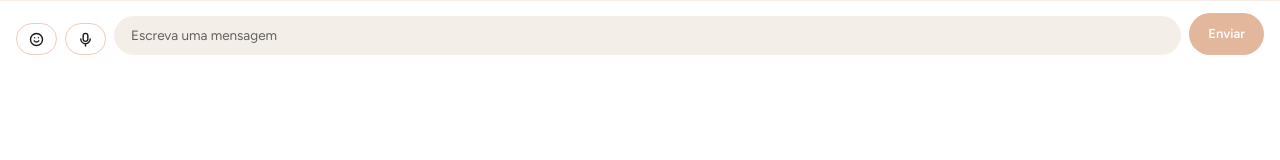
Test: Composer — recado de voz › para sozinho no teto de 5 min e avisa na prévia
Click the button named "Gravar áudio".
click(86, 39)  # box x1=65 y1=23 x2=106 y2=55
Wait 300500 ms
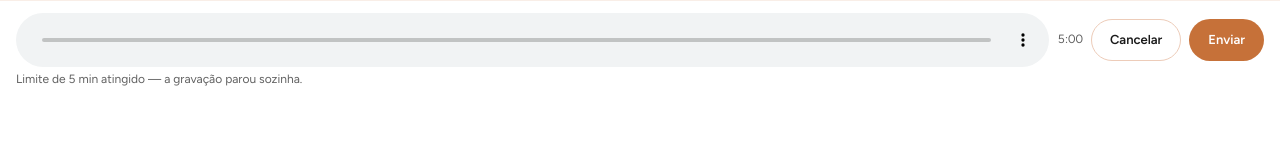
expect the element with test id "voice-recorder-preview" is shown: met, box x1=16 y1=13 x2=1050 y2=67
expect the text "Limite de 5 min atingido — a gravação parou sozinha." is shown: met, box x1=16 y1=72 x2=302 y2=86
expect the text "5:00" is shown: met, box x1=1058 y1=31 x2=1083 y2=49
